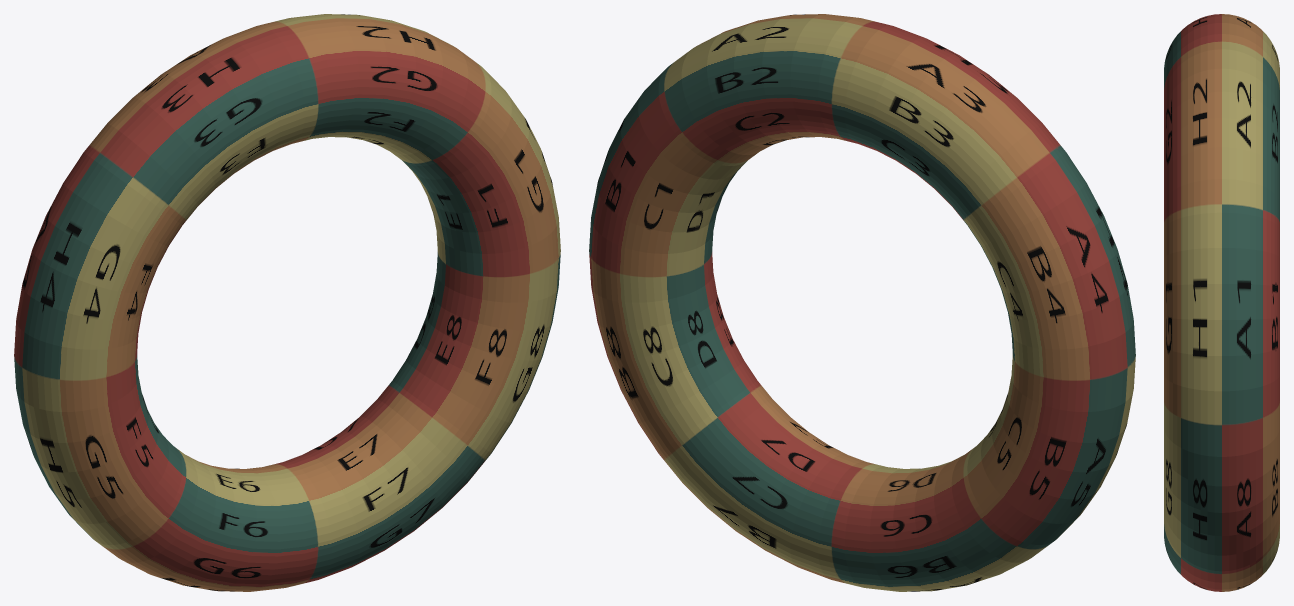
File: texture_torus_R16_r12.glb
The picture shows the model from 3 angles, left to right: view 1: azimuth 30°, elevation 25°; view 2: azimuth 150°, elevation 25°; view 3: azimuth 270°, elevation 25°; orthographic projection. The views are drawn at different scales.
Parts seen in each view (by area): view 1: world; view 2: world; view 3: world.
Part boxes in pixels (x1,y1,x2,y2): world: (14, 14, 560, 591); world: (589, 14, 1135, 591); world: (1164, 14, 1279, 591).
Size of the model in its own units: 25.87 by 25.82 by 5.19.
Materials: 1 (1 with a texture image).
